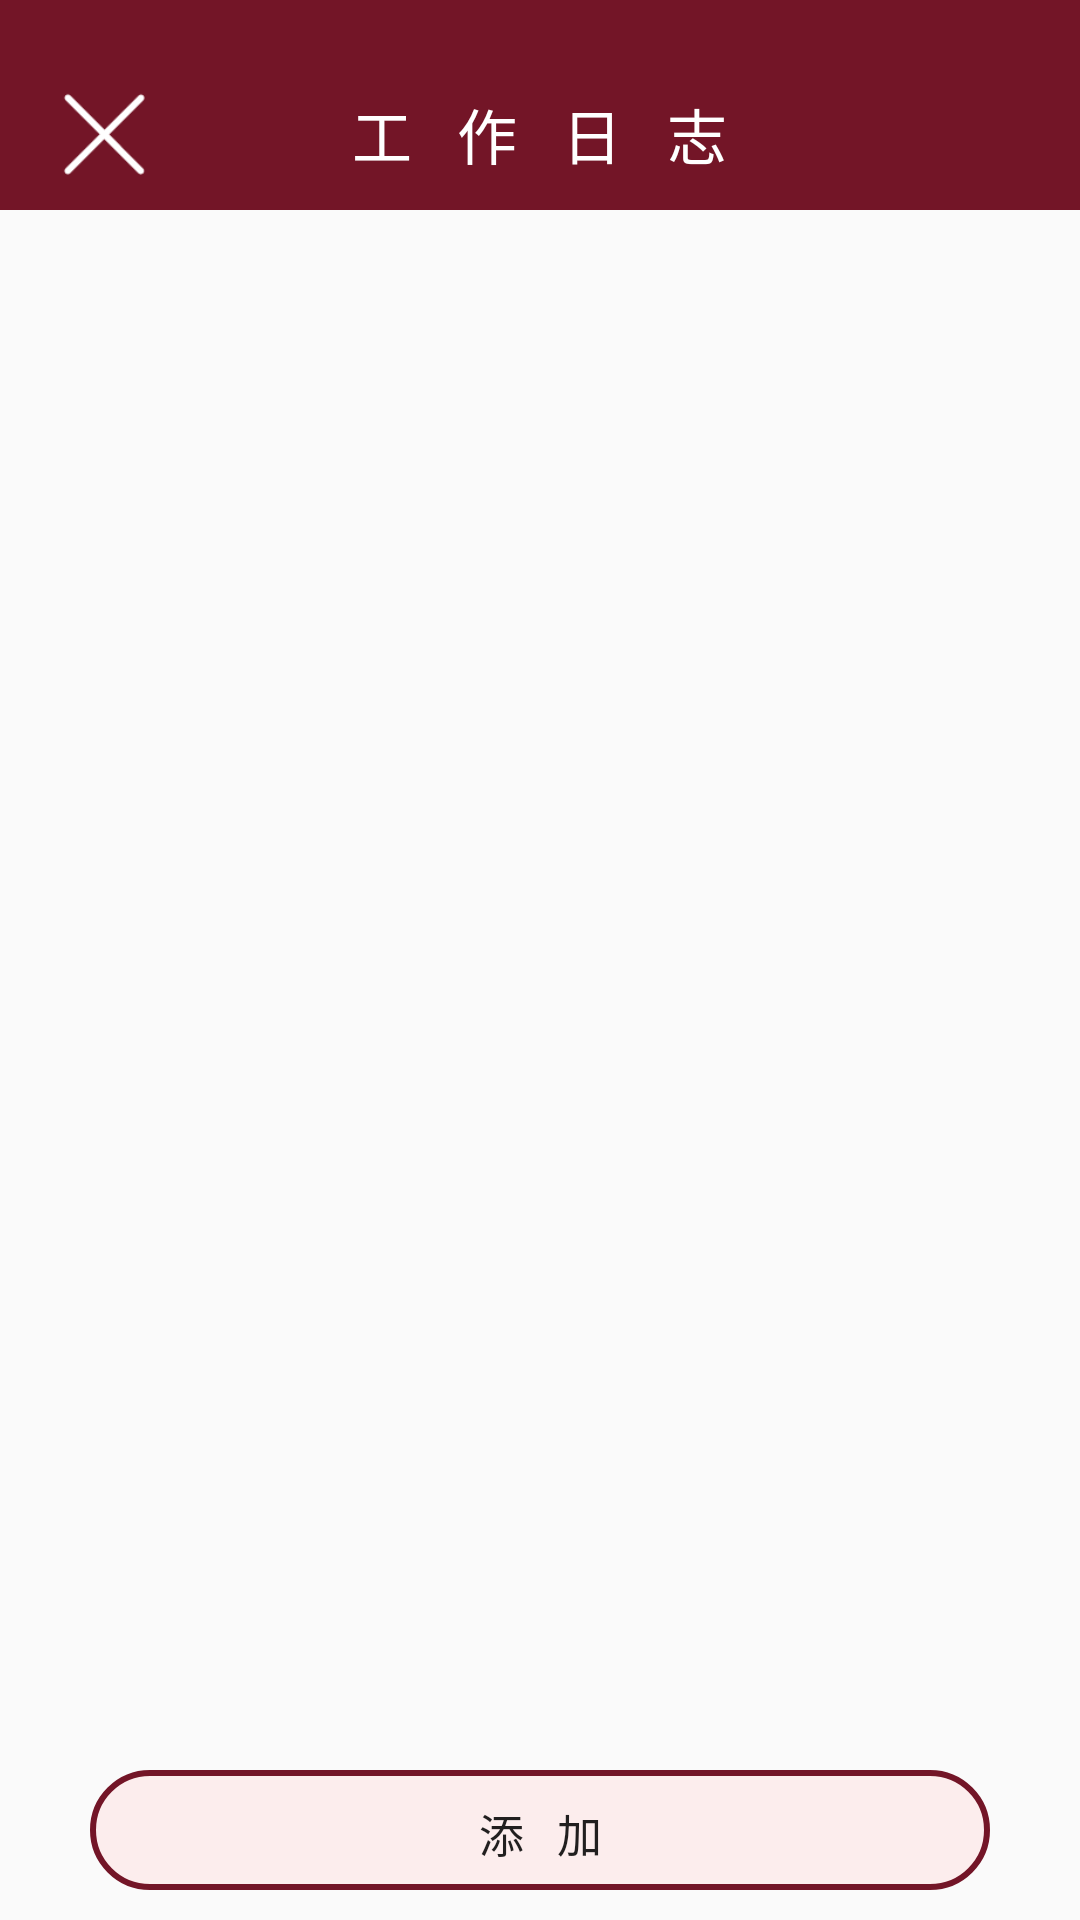

Icons on this 1080w x 1920h Android screen, each with the point to tap as (x=x, y=y):
back: (x=104, y=134)
